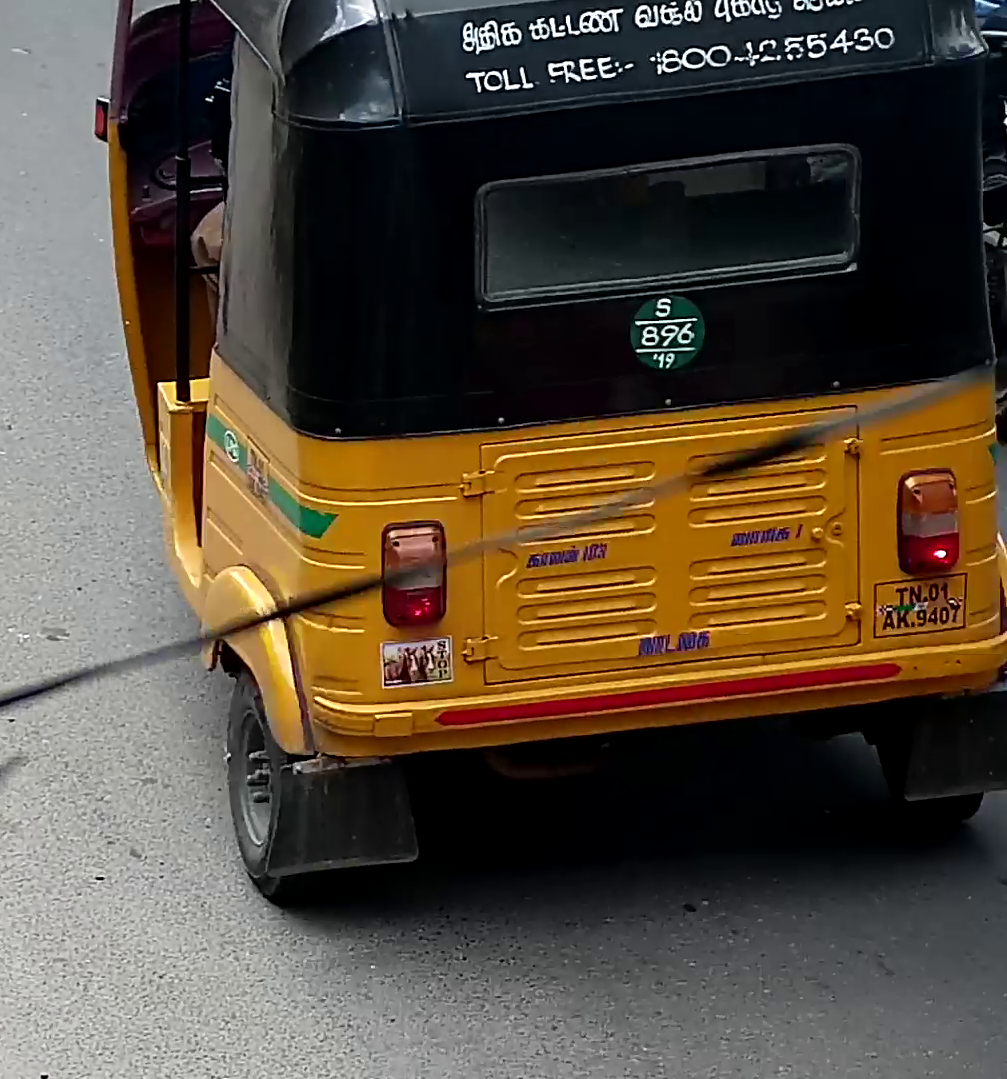.: (923, 595, 928, 603), (910, 621, 915, 627)
0: (938, 606, 949, 625), (929, 583, 939, 601)
1: (940, 582, 948, 600)
4: (927, 606, 938, 625)
7: (949, 604, 961, 624)
9: (916, 609, 927, 627)
A: (882, 611, 896, 630)
K: (896, 609, 909, 629)
N: (908, 585, 922, 605)
P10: (872, 571, 970, 642)
T: (894, 587, 908, 607)
